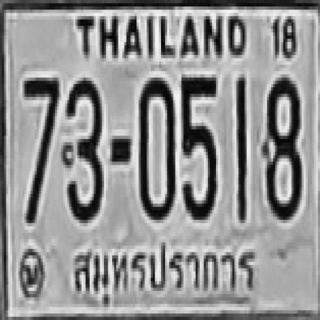N00: (137, 74, 173, 217)
N01: (234, 74, 247, 220)
N03: (61, 74, 102, 220)
N05: (179, 74, 218, 221)
N07: (22, 74, 57, 220)
N08: (264, 75, 304, 221)
P57: (63, 233, 264, 314)
